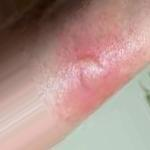Reupload: (68, 49, 112, 96)
